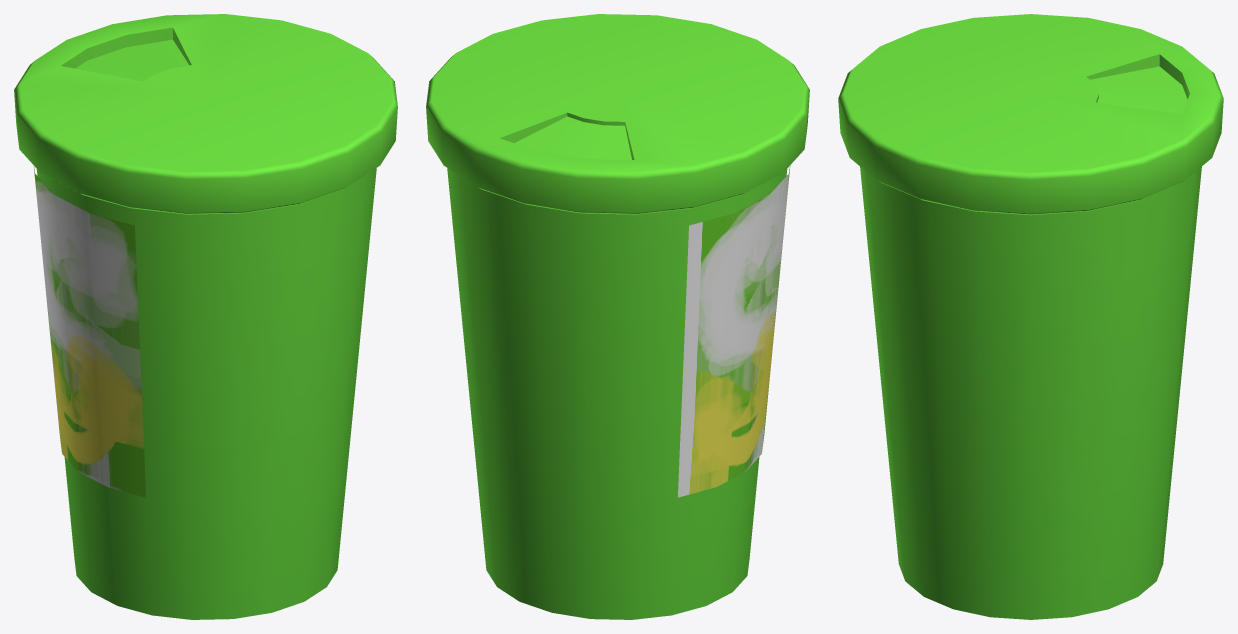
File: Paper_Cup.fbx
The picture shows the model from 3 angles, left to right: view 1: azimuth 30°, elevation 25°; view 2: azimuth 150°, elevation 25°; view 3: azimuth 270°, elevation 25°; orthographic projection.
Parts seen in each view (by area): view 1: Paper_Cup; view 2: Paper_Cup; view 3: Paper_Cup.
Boxes of the visible parts, x1=… form: Paper_Cup: x1=14, y1=14, x2=397, y2=619; Paper_Cup: x1=426, y1=14, x2=809, y2=619; Paper_Cup: x1=838, y1=14, x2=1223, y2=619.
Size of the model in its own units: 46.66 by 62.9 by 46.66.
